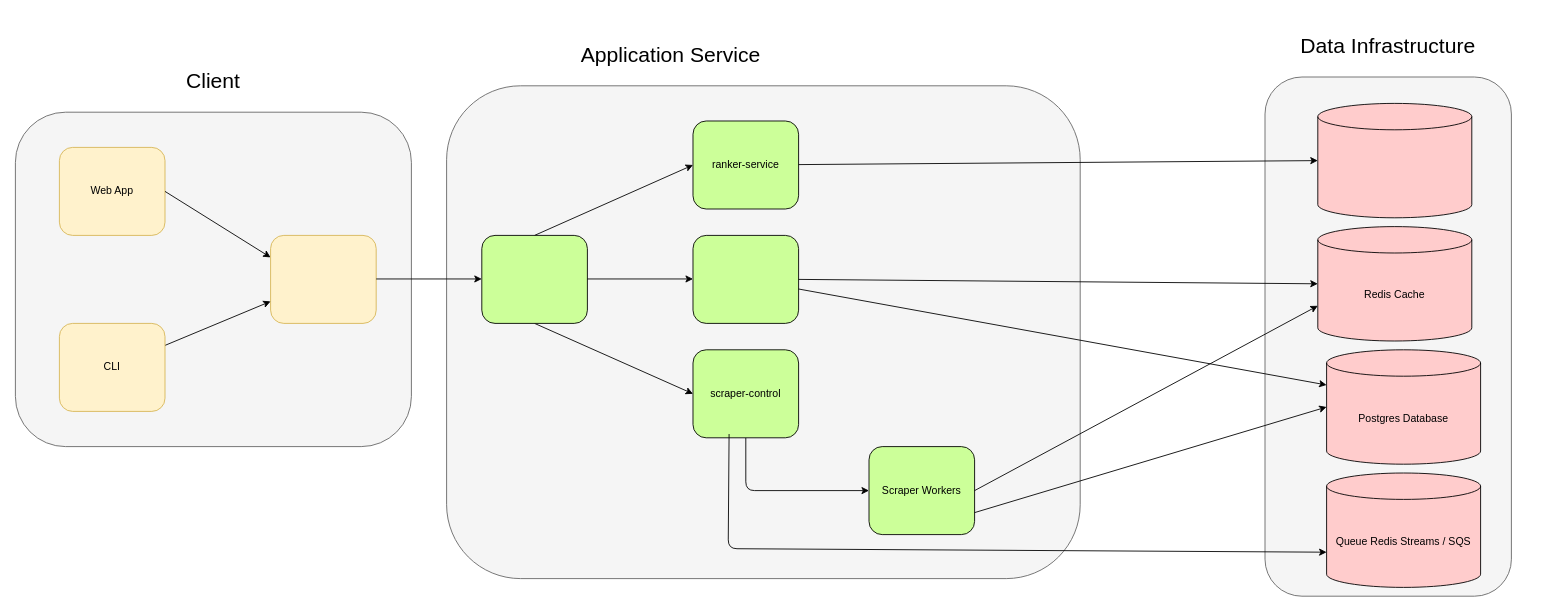
The diagram is 1558 pixels wide and 612 high, and some of its shapes have lost their labels. Here are the shapes that lost their labels. From the top down, the box of each, then its label:
(1317, 103, 1472, 218): Model Store
(270, 235, 376, 323): CDN/Edge (TLS, WAF, rate limiting, caching)
(481, 235, 587, 323): API Gateway
(692, 235, 799, 323): catalog-service
